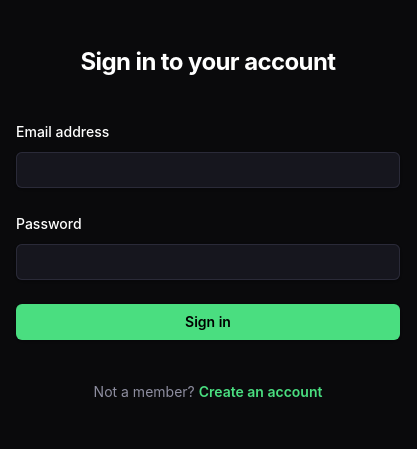
it: Authentication Flow & Security › login API failure displays error
Type "test@example.com" into the field labelled "Email address". click: (208, 170)
box: 16,152 -> 400,188
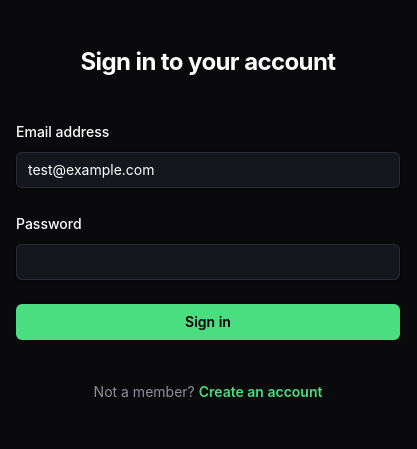
Type "wrongpass" into the password field labelled "Password". click: (208, 262)
box: 16,244 -> 400,280
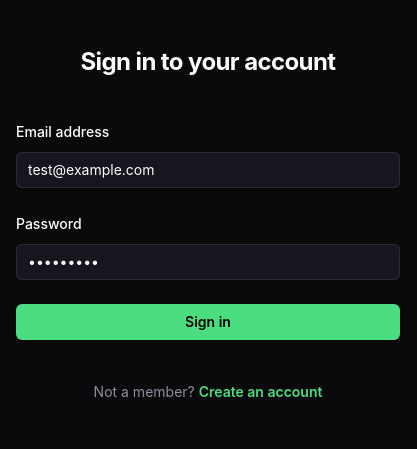
Click the button "Sign in". click: (208, 322)
box: 16,304 -> 400,340
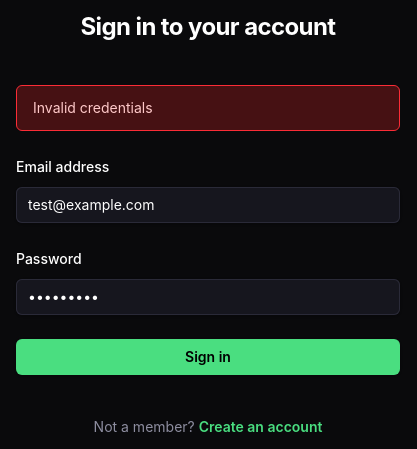
Expected: the text "Invalid credentials" is shown, 16,85 -> 400,131
